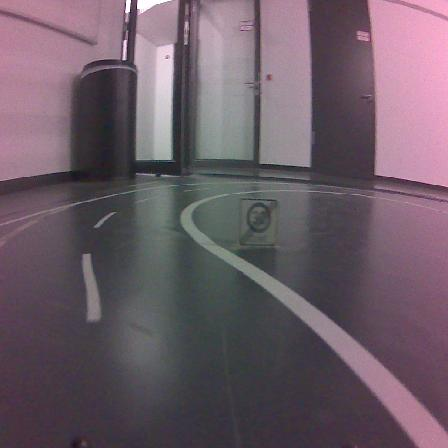30_ZONE_END: (237, 198, 278, 246)
